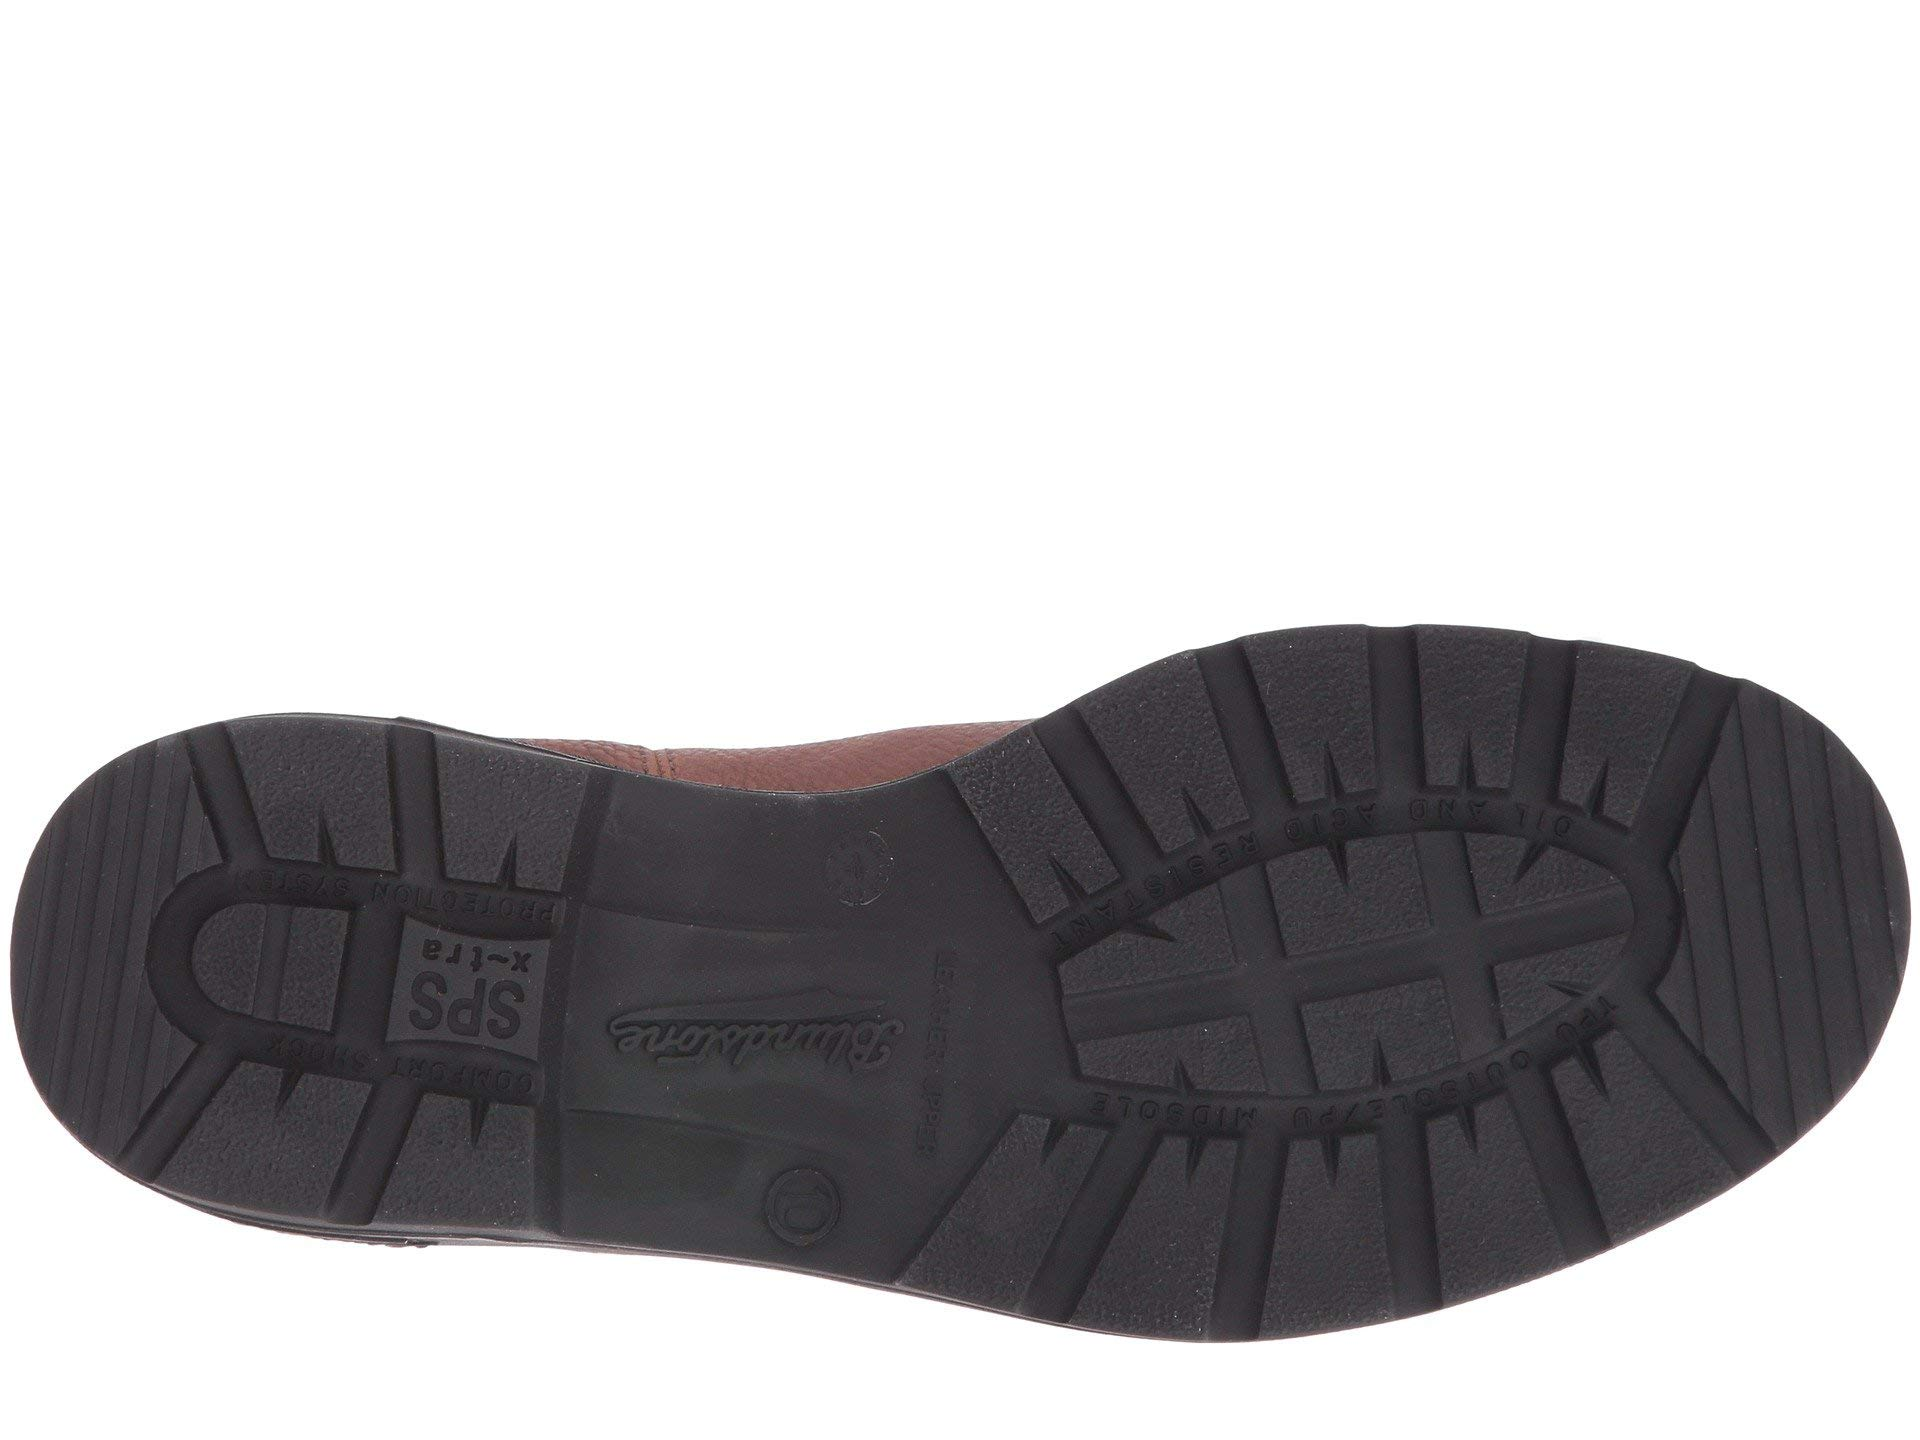exclude: (544, 765, 963, 1286)
line: (1687, 796, 1866, 1044), (23, 808, 153, 1094)
quad: (1048, 830, 1633, 1088), (370, 905, 556, 1101), (1240, 1130, 1414, 1333), (1386, 626, 1544, 808)
text: (1048, 830, 1633, 1088), (370, 905, 556, 1101)
triangle: (1048, 830, 1633, 1088), (1240, 1130, 1414, 1333), (1386, 626, 1544, 808), (295, 805, 348, 871)
